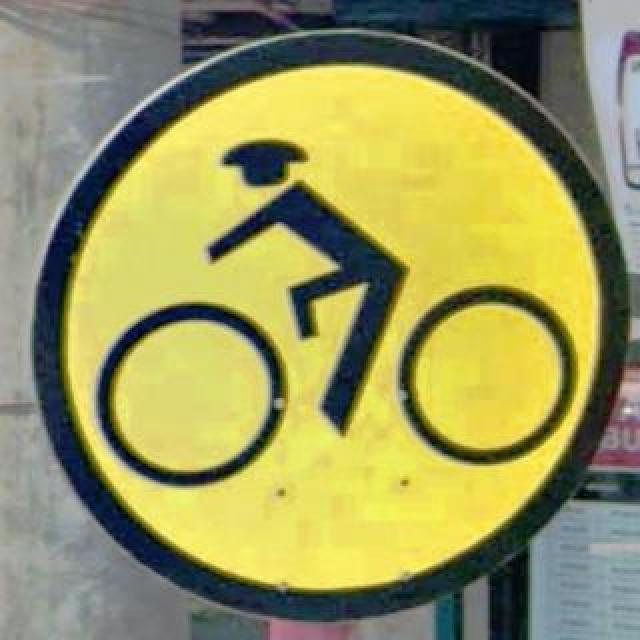bike lane: (34, 30, 630, 622)
